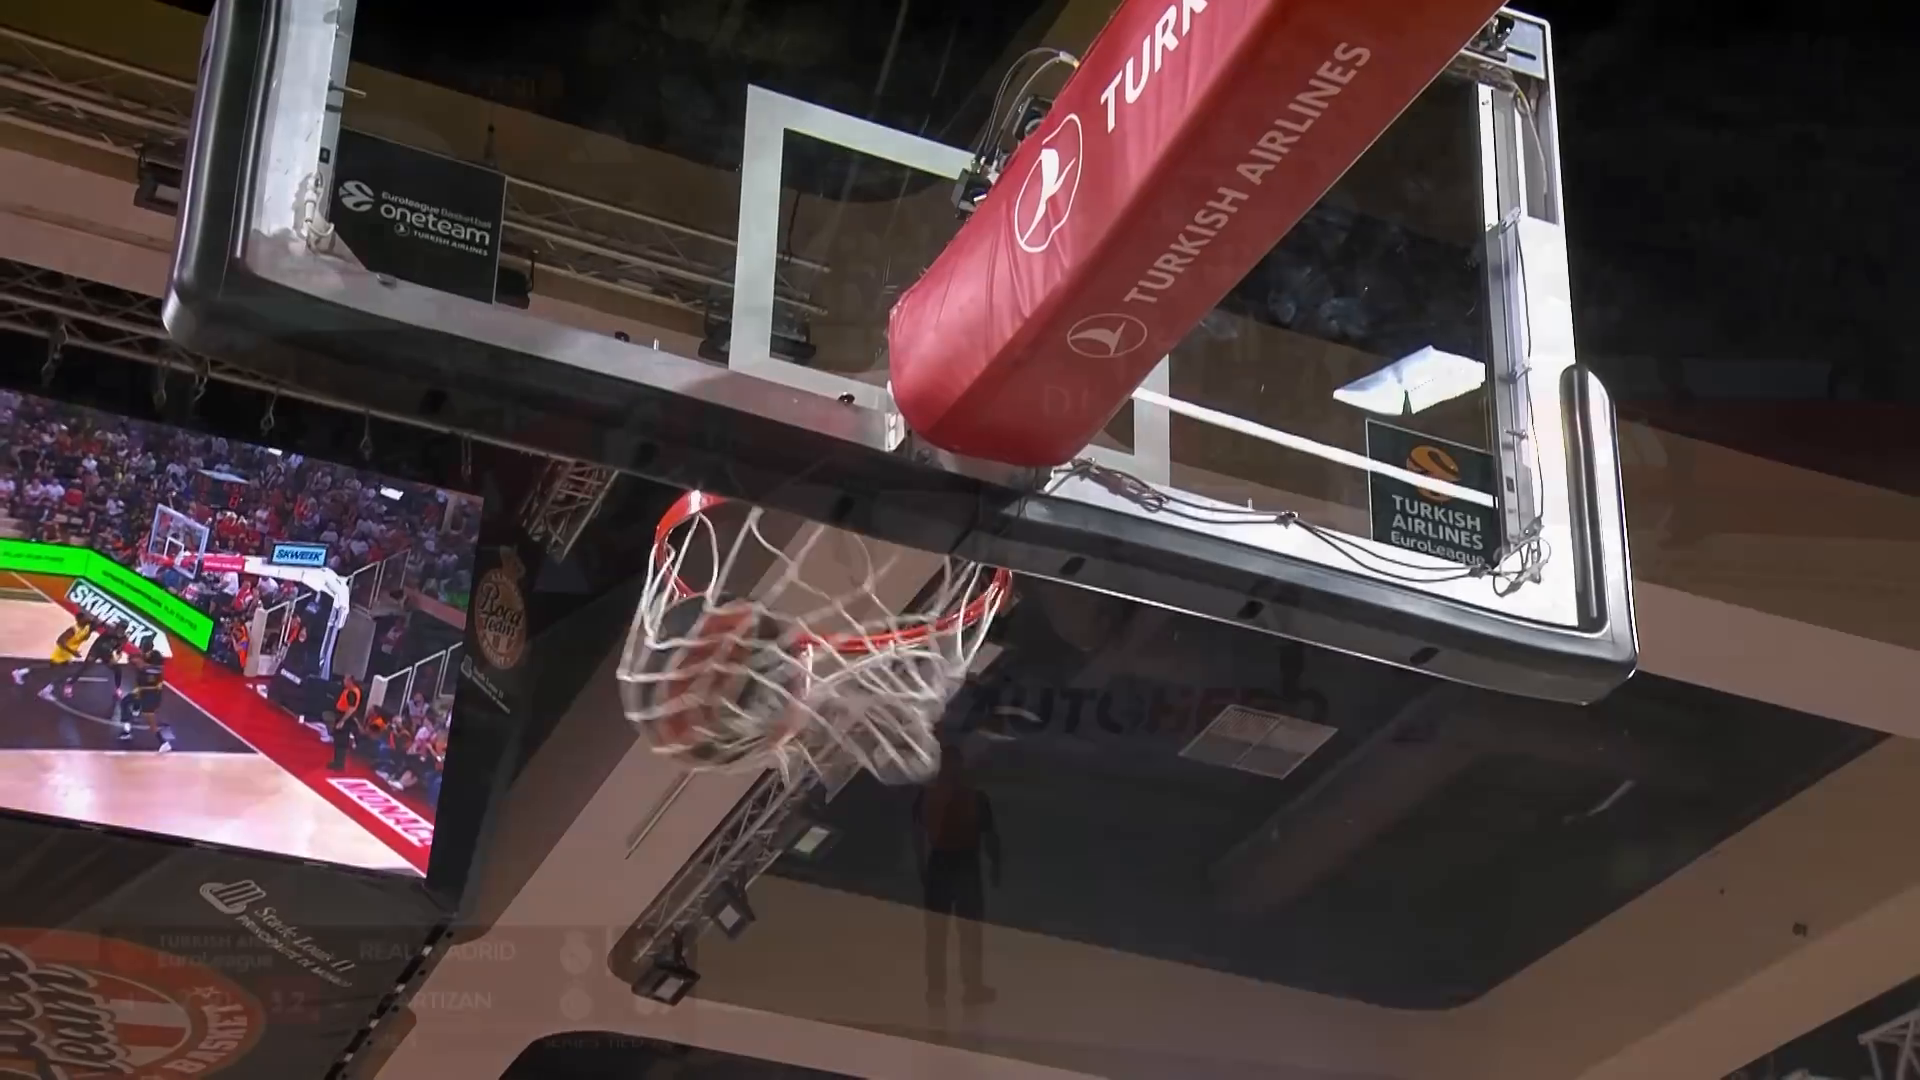ball: (622, 589, 823, 769)
net: (597, 477, 1044, 798)
